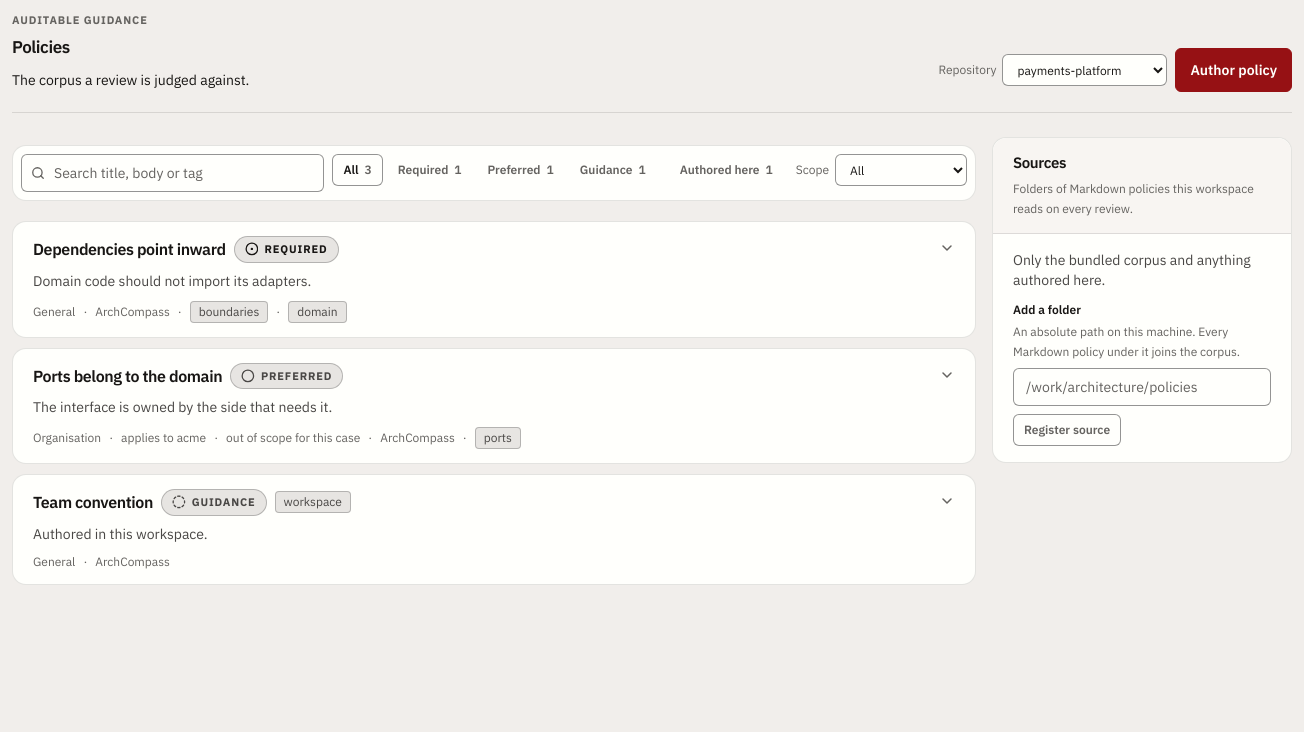
it: the policy corpus › puts the corpus counts on the filters they belong to
Check: the button "required 1" is shown, box left=387, top=154, right=472, bottom=186
Click the button "Authored here 1": (726,170) left=669, top=154, right=784, bottom=186
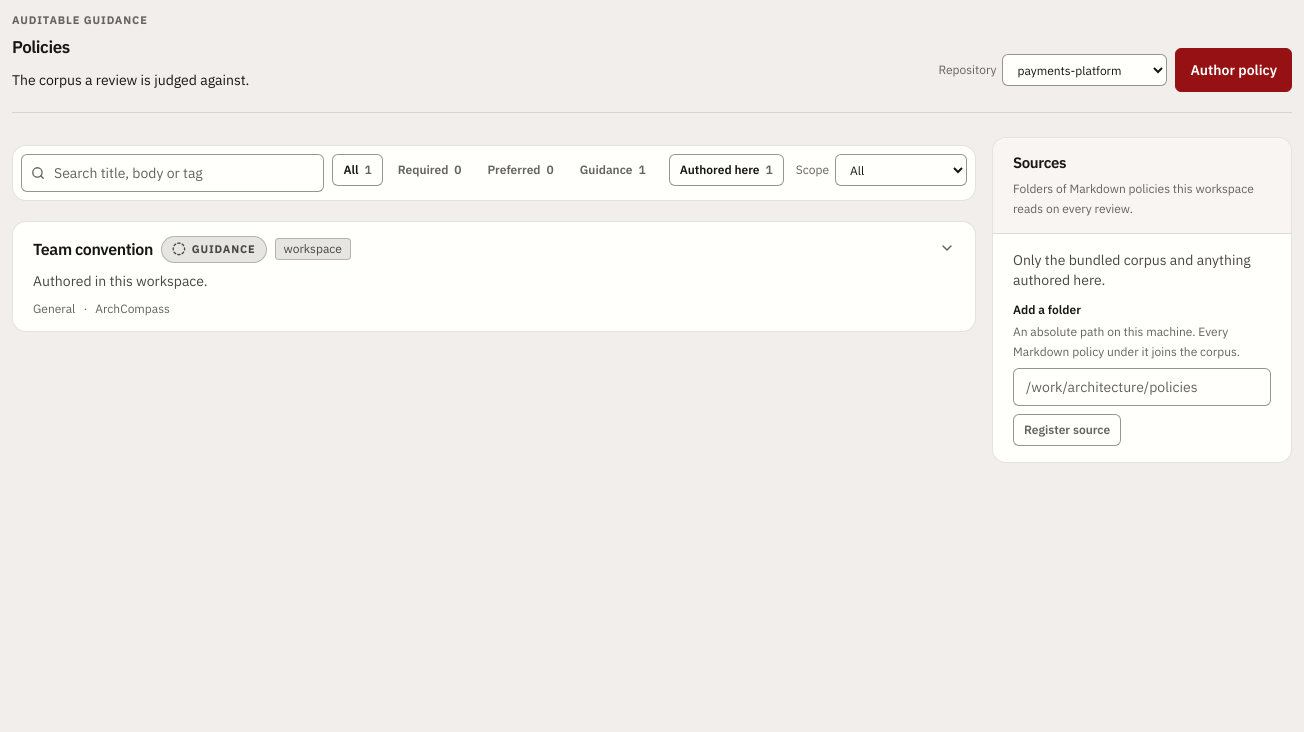
Check: the text "Team convention" is shown, box left=33, top=237, right=153, bottom=261
Check: the button "Dependencies point inward" is gone
